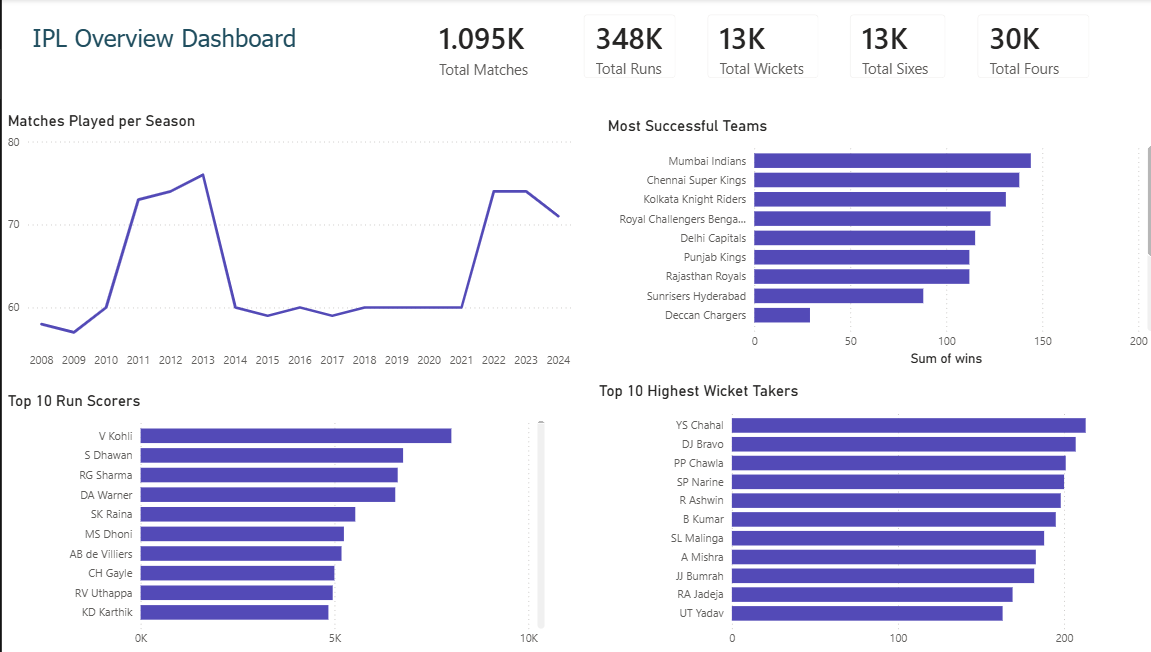

The page's visual inventory and layout, read from the dashboard file:
{"tool":"powerbi","page":{"name":"Overview","canvas":[1280,720],"ordinal":0},"visuals":[{"type":"cardVisual","fields":{"Data":["CountNonNull(ipl matches.id)"]},"box":[448.7,0,172.9,104.3],"z":0},{"type":"cardVisual","fields":{"Data":["ipl deliveries.Total runs"]},"box":[621.6,0,135.8,104.3],"z":1000},{"type":"cardVisual","fields":{"Data":["Sum(ipl deliveries.is_wicket)"]},"box":[757.5,0,156.4,104.3],"z":2000},{"type":"cardVisual","fields":{"Data":["ipl deliveries.Total Sixes"]},"box":[913.9,0,140,104.3],"z":3000},{"type":"clusteredBarChart","title":"Most Successful Teams","fields":{"Category":["ipl team_summary.team"],"Y":["Sum(ipl team_summary.wins)"]},"box":[660,129,610.6,278.6],"z":4000},{"type":"clusteredBarChart","title":"Top 10 Run Scorers","fields":{"Category":["ipl batting_summary.batter"],"Y":["Sum(ipl batting_summary.total_runs)"]},"box":[1.4,430.9,599.7,289.5],"z":5000},{"type":"clusteredBarChart","title":"Top 10 Highest Wicket Takers","fields":{"Category":["ipl deliveries.bowler"],"Y":["Sum(ipl deliveries.is_wicket)"]},"box":[650.4,419.9,629.8,300.5],"z":6000},{"type":"lineChart","title":"Matches Played per Season","fields":{"Category":["ipl matches.season"],"Y":["CountNonNull(ipl matches.id)"]},"box":[1.4,123.5,629.8,290.9],"z":7000},{"type":"cardVisual","fields":{"Data":["ipl deliveries.Total Fours"]},"box":[1053.9,0,157.8,104.3],"z":8000},{"type":"textbox","box":[1.4,22,354,50.8],"z":9000}]}

Visuals, with their boxes in screenshot pixels (x1, y1, x2, y2), scaled from the page's 1280x720 canvas onto the 1151x652 screenshot:
cardVisual - CountNonNull(ipl matches.id): BBox(403, 0, 559, 94)
cardVisual - ipl deliveries.Total runs: BBox(559, 0, 681, 94)
cardVisual - Sum(ipl deliveries.is_wicket): BBox(681, 0, 822, 94)
cardVisual - ipl deliveries.Total Sixes: BBox(822, 0, 948, 94)
"Most Successful Teams" clusteredBarChart: BBox(593, 117, 1143, 369)
"Top 10 Run Scorers" clusteredBarChart: BBox(1, 390, 541, 651)
"Top 10 Highest Wicket Takers" clusteredBarChart: BBox(585, 380, 1150, 651)
"Matches Played per Season" lineChart: BBox(1, 112, 568, 375)
cardVisual - ipl deliveries.Total Fours: BBox(948, 0, 1090, 94)
textbox: BBox(1, 20, 320, 66)
